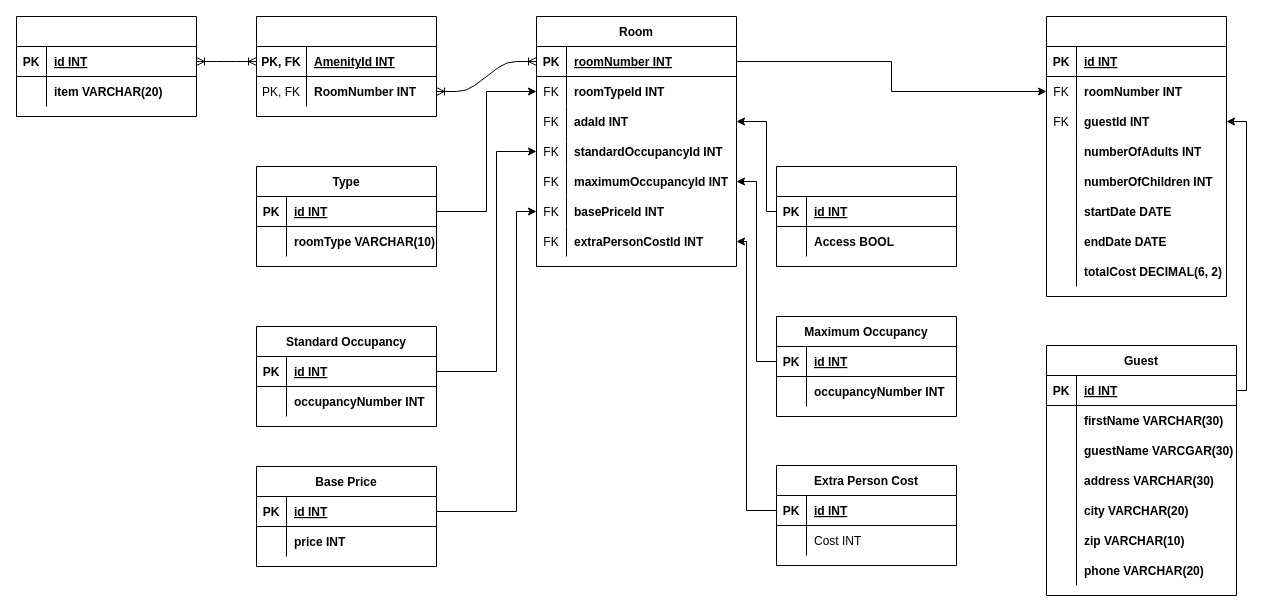
Some shapes in this 1263 by 612 pixel diagram are drawn without their labels. The box of each missing label's shape, as (x1, y1, x2, y2) in pixels:
ADA: (776, 166, 956, 266)
Amenity: (16, 16, 196, 116)
Reservation: (1046, 16, 1226, 296)
Room Amenity: (256, 16, 436, 116)
